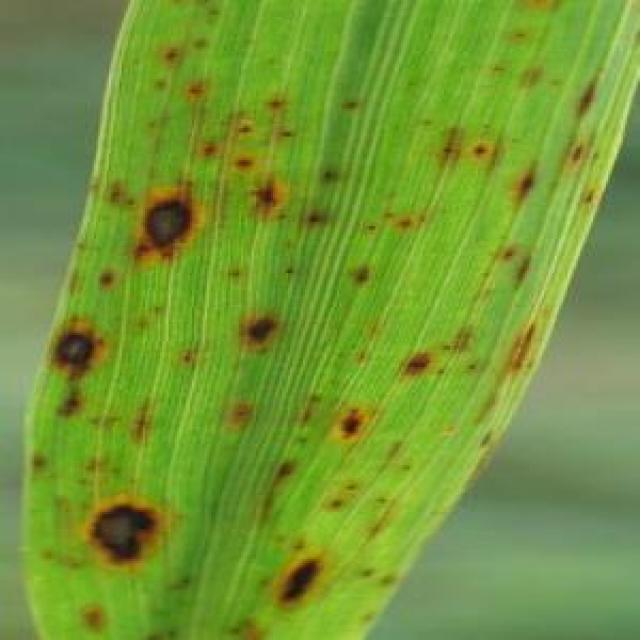brownspots: (85, 497, 156, 561), (138, 180, 194, 250), (64, 595, 139, 640), (561, 134, 600, 212), (204, 118, 264, 168), (570, 68, 620, 122), (442, 125, 502, 168), (230, 305, 282, 350), (282, 550, 322, 608), (360, 203, 422, 239), (503, 324, 540, 380), (340, 400, 378, 454), (264, 91, 301, 146), (497, 243, 542, 288), (450, 320, 487, 371), (54, 328, 102, 367), (497, 19, 540, 62), (298, 196, 336, 243), (356, 554, 397, 594), (514, 154, 544, 208), (124, 392, 154, 446), (84, 250, 120, 294), (53, 380, 94, 418), (344, 324, 386, 361), (216, 392, 260, 427), (407, 340, 444, 378), (346, 252, 380, 292), (130, 298, 164, 338), (250, 174, 284, 213), (264, 458, 308, 488), (28, 446, 66, 478), (230, 612, 270, 640), (294, 391, 324, 428), (324, 480, 361, 510), (173, 342, 209, 372), (218, 258, 258, 284), (333, 94, 365, 122), (318, 158, 346, 188), (186, 75, 210, 96), (158, 42, 184, 59), (282, 260, 300, 278)
